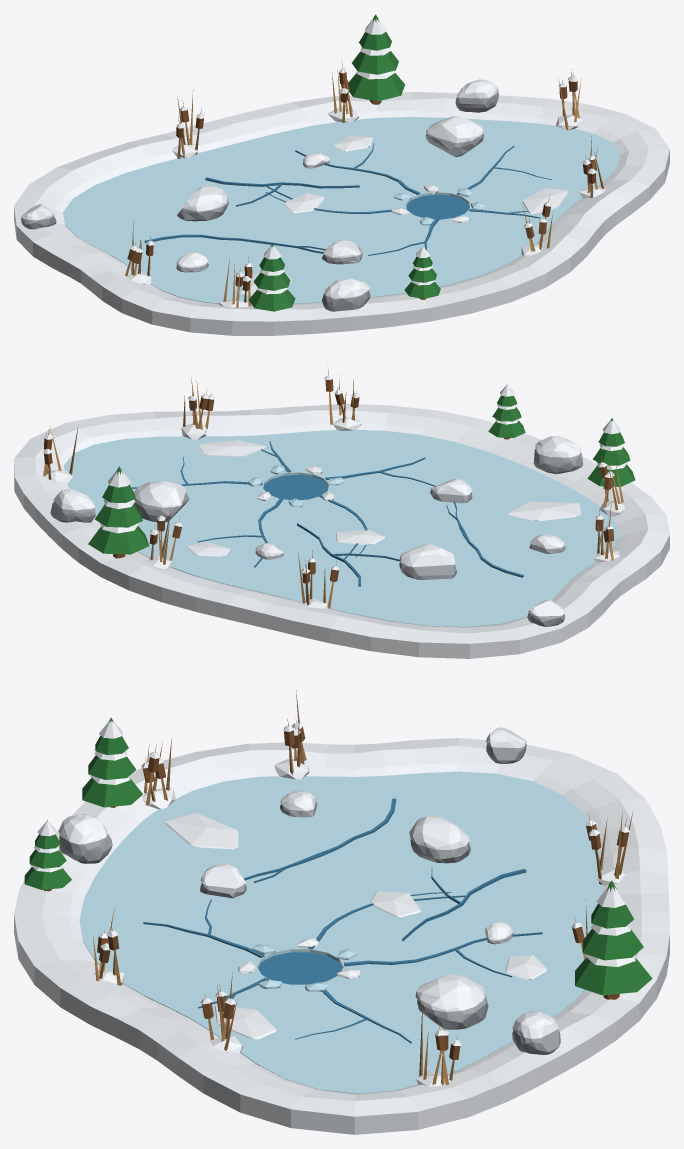
Rendered from frozen-winter-lake.glb.
3 renders of one model, top to bottom at view 1: azimuth 30°, elevation 25°; view 2: azimuth 150°, elevation 25°; view 3: azimuth 270°, elevation 25°, orthographic. The views are drawn at different scales.
Visible parts, largest first — view 1: Ice_Sheet, Ground_SnowBank, Reeds, Pine_0, Ice_Cracks, Pine_1, FishingHole, Pine_2, Rock_Ice_2_Snow, Rock_Ice_0_Snow, Drift_2, Rock_Bank_2_Snow (+7 smaller); view 2: Ice_Sheet, Ground_SnowBank, Reeds, Pine_0, Ice_Cracks, Pine_1, FishingHole, Pine_2, Rock_Ice_2_Snow, Drift_0, Rock_Ice_0_Snow, Drift_2 (+10 smaller); view 3: Ice_Sheet, Ground_SnowBank, Reeds, Pine_0, Ice_Cracks, Pine_1, FishingHole, Pine_2, Rock_Ice_2_Snow, Drift_0, Rock_Ice_0_Snow, Rock_Ice_2 (+9 smaller).
Part boxes in pixels (x1,y1,x2,y2): Ice_Sheet: [63, 117, 620, 305]; Ground_SnowBank: [14, 92, 669, 335]; Reeds: [125, 60, 604, 307]; Pine_0: [348, 14, 405, 104]; Ice_Cracks: [144, 143, 552, 255]; Pine_1: [249, 243, 295, 311]; FishingHole: [406, 194, 469, 219]; Pine_2: [404, 246, 440, 299]; Rock_Ice_2_Snow: [426, 116, 484, 142]; Rock_Ice_0_Snow: [181, 185, 227, 211]; Drift_2: [522, 188, 568, 213]; Rock_Bank_2_Snow: [325, 278, 369, 298]; Ice_Sheet: [64, 430, 619, 627]; Ground_SnowBank: [14, 403, 669, 658]; Reeds: [43, 365, 623, 608]; Pine_0: [88, 466, 149, 558]; Ice_Cracks: [132, 441, 523, 586]; Pine_1: [587, 418, 635, 486]; FishingHole: [263, 474, 328, 499]; Pine_2: [488, 384, 525, 439]; Rock_Ice_2_Snow: [134, 480, 185, 507]; Drift_0: [508, 501, 580, 520]; Rock_Ice_0_Snow: [399, 544, 455, 567]; Drift_2: [197, 440, 266, 456]; Ice_Sheet: [79, 771, 602, 1093]; Ground_SnowBank: [14, 738, 669, 1134]; Reeds: [93, 690, 632, 1085]; Pine_0: [575, 880, 652, 999]; Ice_Cracks: [143, 798, 542, 1043]; Pine_1: [82, 717, 142, 807]; FishingHole: [258, 952, 342, 984]; Pine_2: [24, 820, 71, 891]; Rock_Ice_2_Snow: [415, 974, 484, 1011]; Drift_0: [165, 813, 238, 849]; Rock_Ice_0_Snow: [409, 815, 469, 849]; Rock_Ice_2: [417, 994, 488, 1029].
Bounding box in the file's own units: 47.67 × 8.01 × 35.01.
